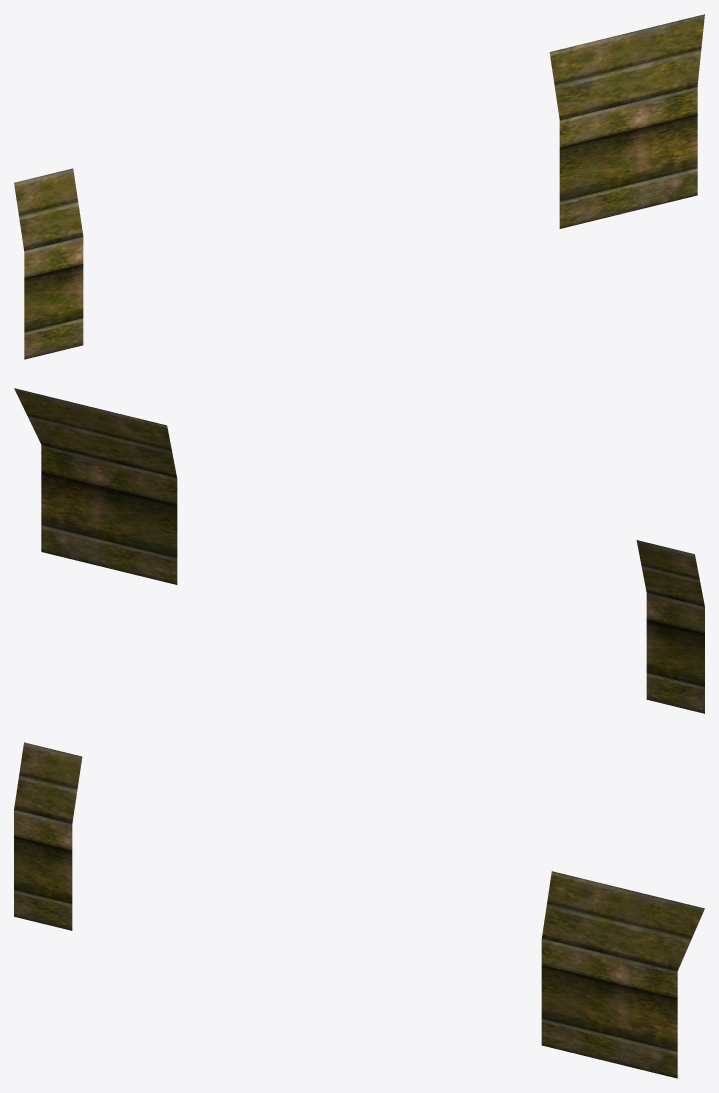
The model's file is OVERHILL_A_01_OBJECT198.fbx.
3 renders of one model, top to bottom at view 1: azimuth 30°, elevation 25°; view 2: azimuth 150°, elevation 25°; view 3: azimuth 330°, elevation 25°, orthographic.
Visible parts, largest first — view 1: OVERHILL_A_01_OBJECT198; view 2: OVERHILL_A_01_OBJECT198; view 3: OVERHILL_A_01_OBJECT198.
Part boxes in pixels (x1,y1,x2,y2): OVERHILL_A_01_OBJECT198: (14, 14, 704, 359); OVERHILL_A_01_OBJECT198: (14, 388, 704, 713); OVERHILL_A_01_OBJECT198: (14, 742, 704, 1078).
Bounding box in the file's own units: 52745 × 12361 × 1348.
2 materials, 2 textured.
